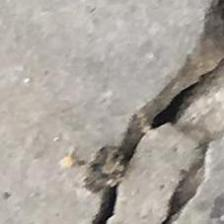Crack: (62, 5, 224, 223)
